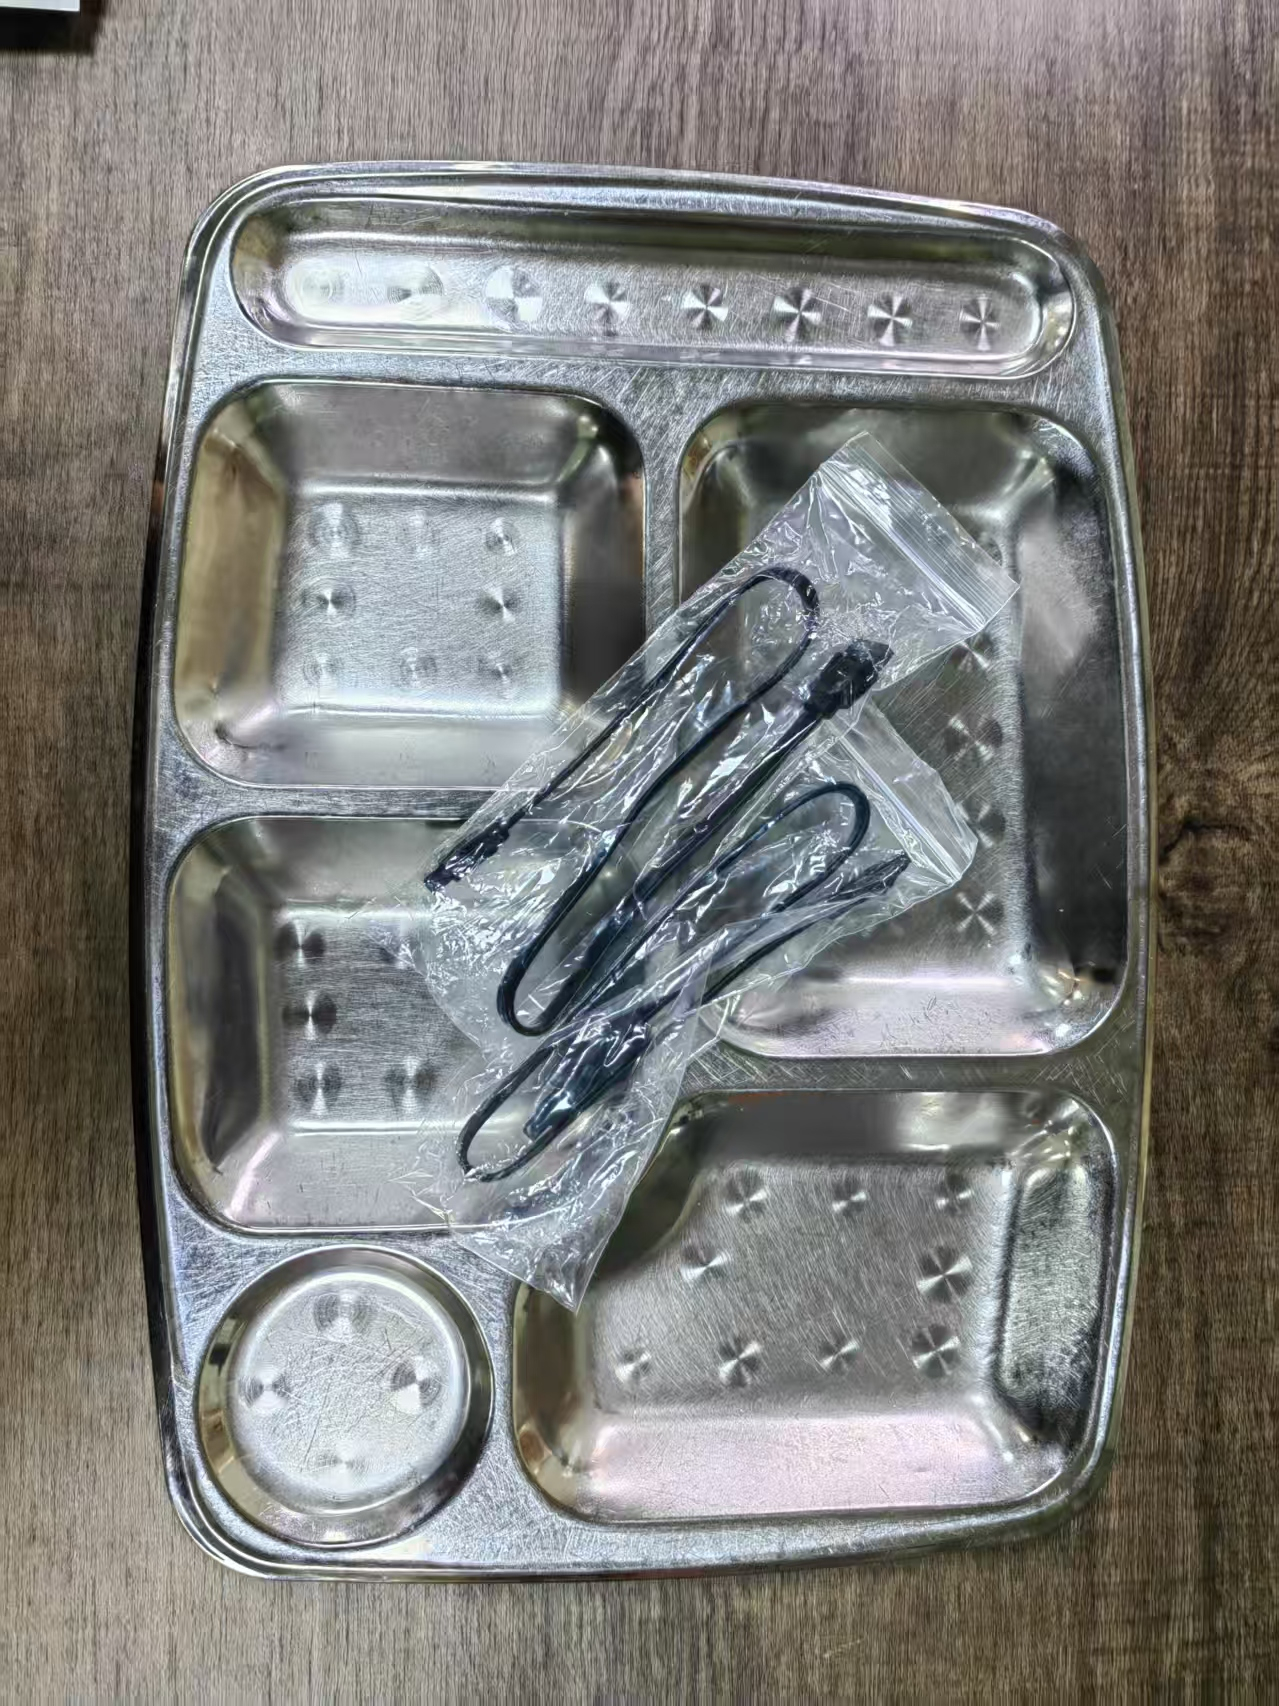mild: (364, 434, 1021, 1311)
plate: (139, 157, 1162, 1593)
